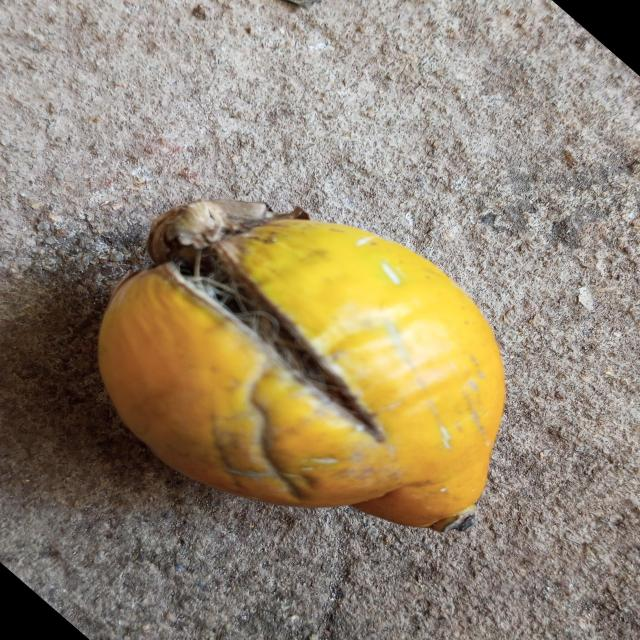damaged: (99, 200, 504, 531)
